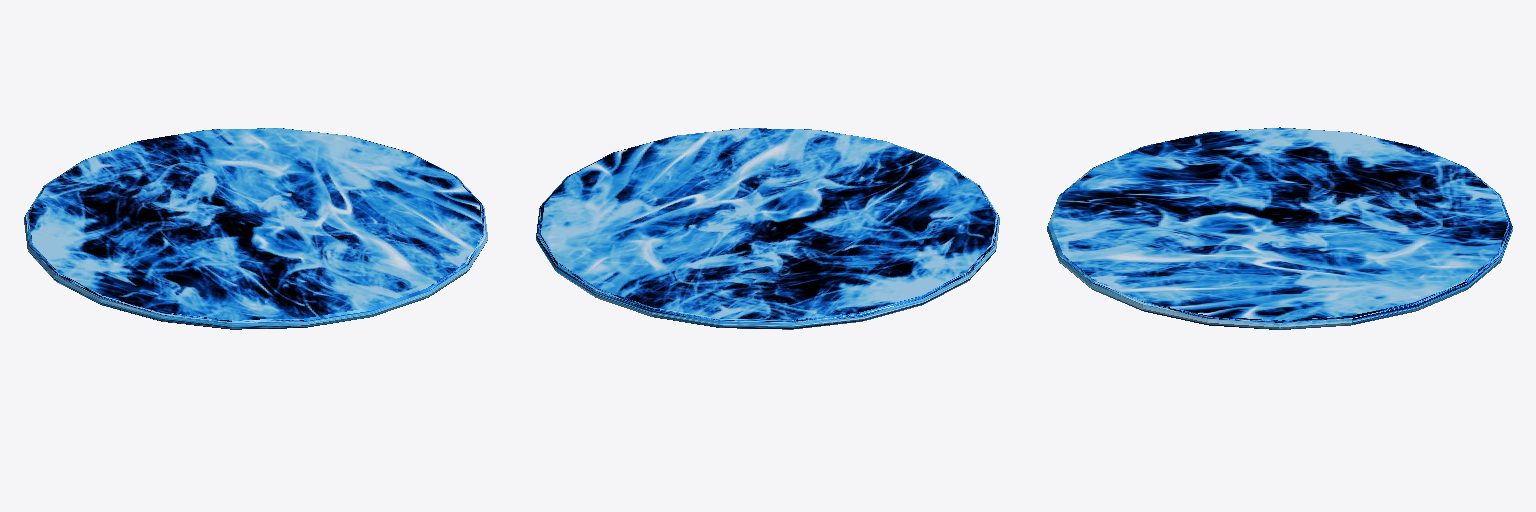
3 views of the same model, side by side, from view 1: azimuth 30°, elevation 25°; view 2: azimuth 150°, elevation 25°; view 3: azimuth 270°, elevation 25° (orthographic).
Parts seen in each view (by area): view 1: pCylinder1; view 2: pCylinder1; view 3: pCylinder1.
Boxes of the visible parts, <box> form: pCylinder1: <box>24,128,487,329</box>; pCylinder1: <box>536,128,999,329</box>; pCylinder1: <box>1047,127,1512,329</box>.
Bounding box in the file's own units: 1.54 × 0.2366 × 1.54.
Materials: 1 (1 with a texture image).